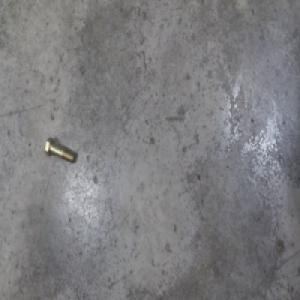Bolt: (44, 136, 75, 166)
